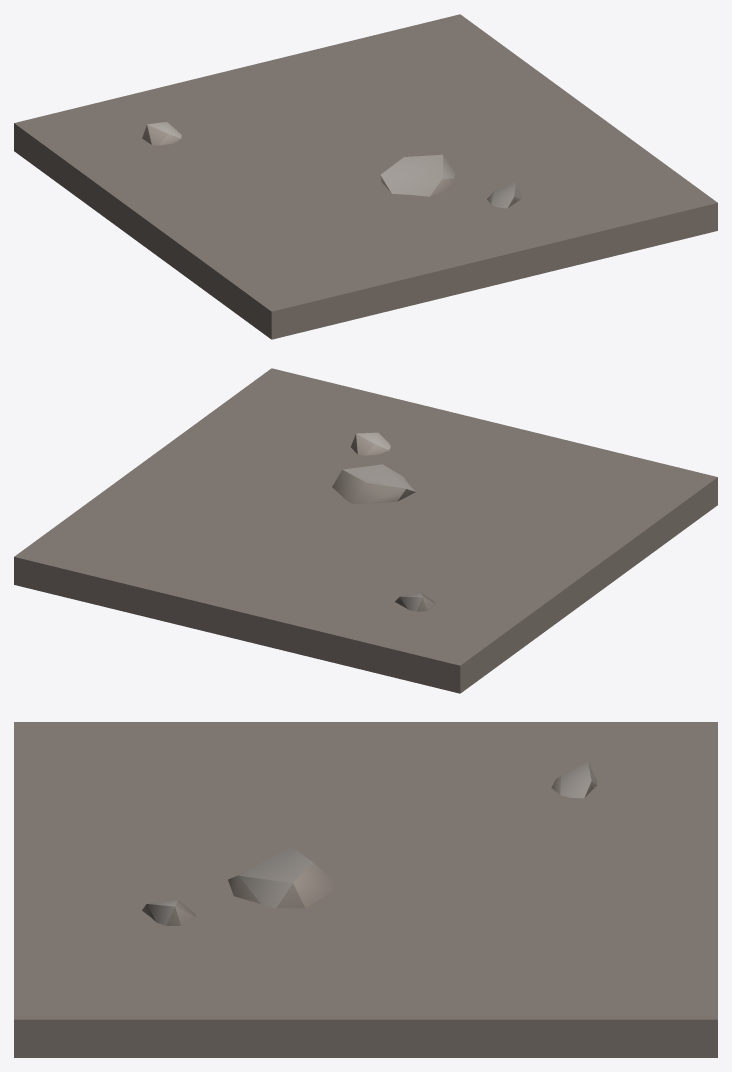
File: floor_dirt.glb
The picture shows the model from 3 angles, top to bottom: view 1: azimuth 30°, elevation 25°; view 2: azimuth 150°, elevation 25°; view 3: azimuth 270°, elevation 25°; orthographic projection. The views are drawn at different scales.
Parts seen in each view (by area): view 1: floor_dirt_small_A; view 2: floor_dirt_small_A; view 3: floor_dirt_small_A.
Part boxes in pixels (x1,y1,x2,y2): floor_dirt_small_A: (14,14,717,339); floor_dirt_small_A: (14,368,717,693); floor_dirt_small_A: (14,722,717,1057).
Bounding box in the file's own units: 2 × 0.1864 × 2.
Materials: 1 (1 with a texture image).
